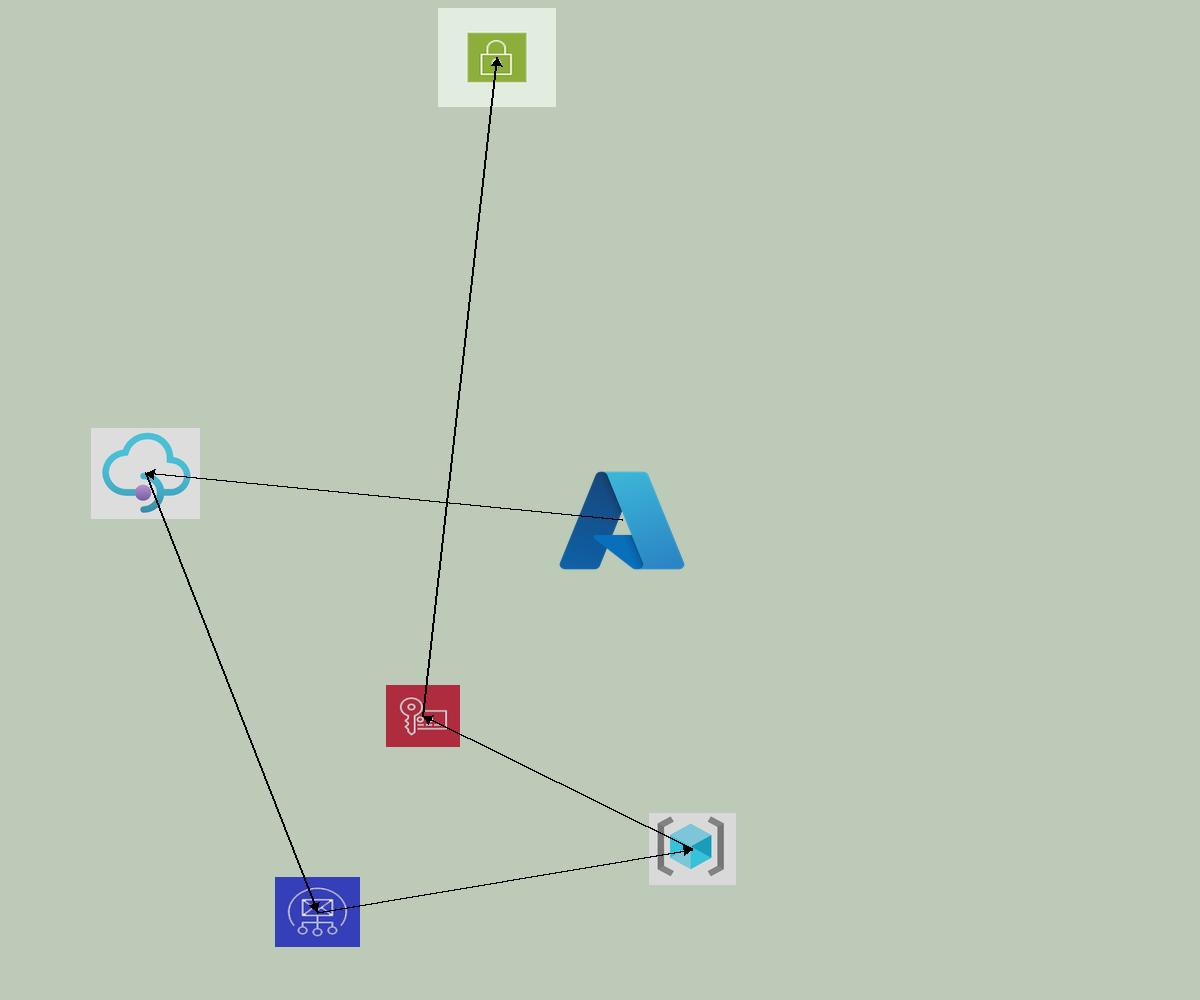AWS-Key-Management-Service: (386, 685, 460, 747)
AWS-Public-subnet: (438, 8, 556, 107)
AWS-Simple-Email-Service: (275, 877, 360, 947)
Azure_api_gateway: (91, 428, 200, 519)
Azure_resource_group: (649, 813, 736, 885)
Azure_services: (554, 464, 690, 577)
